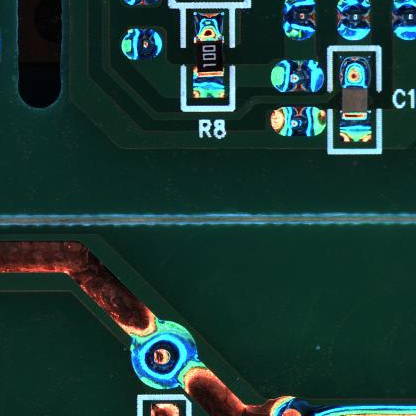spot: (131, 320, 198, 389), (270, 58, 326, 95), (279, 1, 319, 43), (269, 107, 325, 137), (335, 1, 374, 44), (118, 27, 164, 63), (392, 1, 415, 45)
